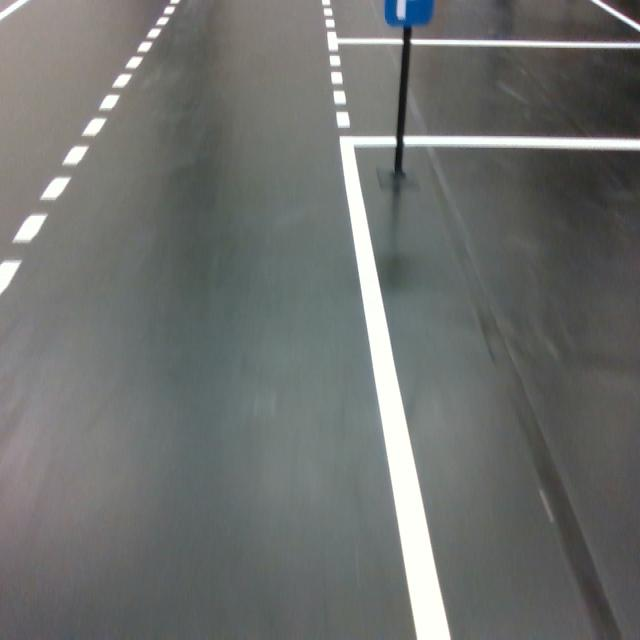parking-sign: (384, 0, 436, 27)
